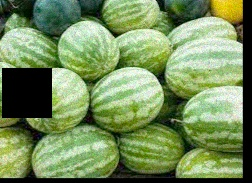watermelon: (89, 67, 165, 133), (31, 127, 120, 177), (22, 66, 87, 134), (166, 40, 242, 95), (58, 21, 120, 76)
